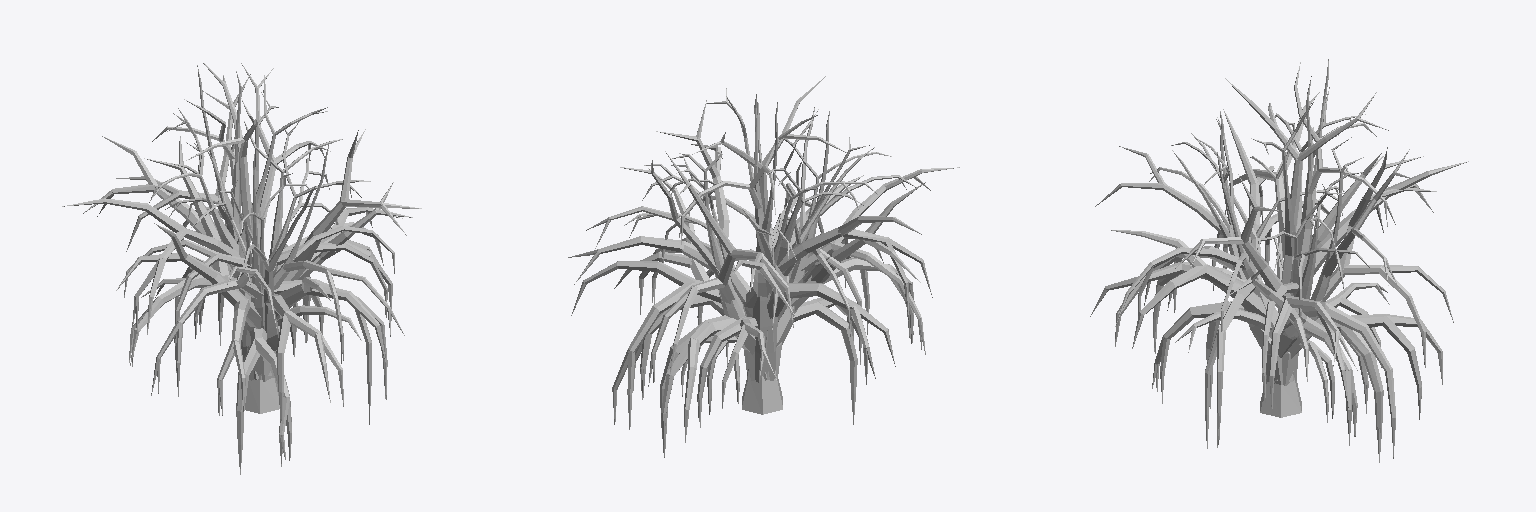
The model's file is tree18.obj.
The picture shows the model from 3 angles: view 1: azimuth 30°, elevation 25°; view 2: azimuth 150°, elevation 25°; view 3: azimuth 270°, elevation 25°; orthographic projection.
Parts seen in each view (by area): view 1: tree; view 2: tree; view 3: tree.
Boxes of the visible parts, x1,y1,x2,y2 form: tree: [62, 63, 421, 474]; tree: [568, 76, 959, 457]; tree: [1090, 59, 1468, 462].
Bounding box in the file's own units: 10.02 × 9.97 × 9.46.